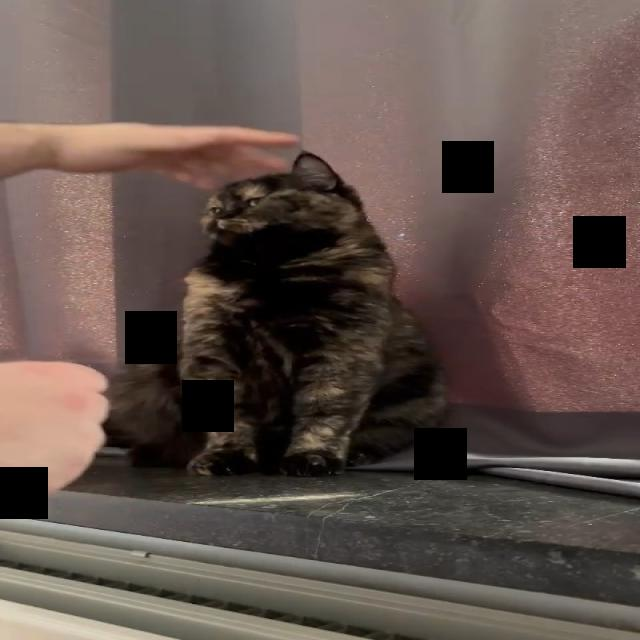authorized: (100, 149, 449, 477)
